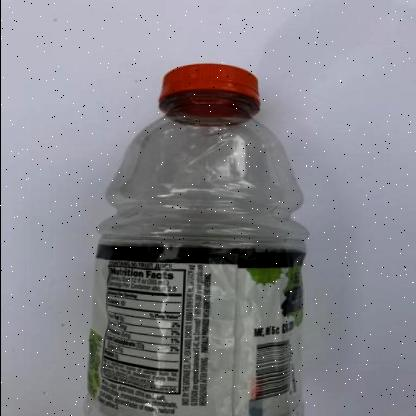Plastic Bottle: (87, 64, 307, 416)
